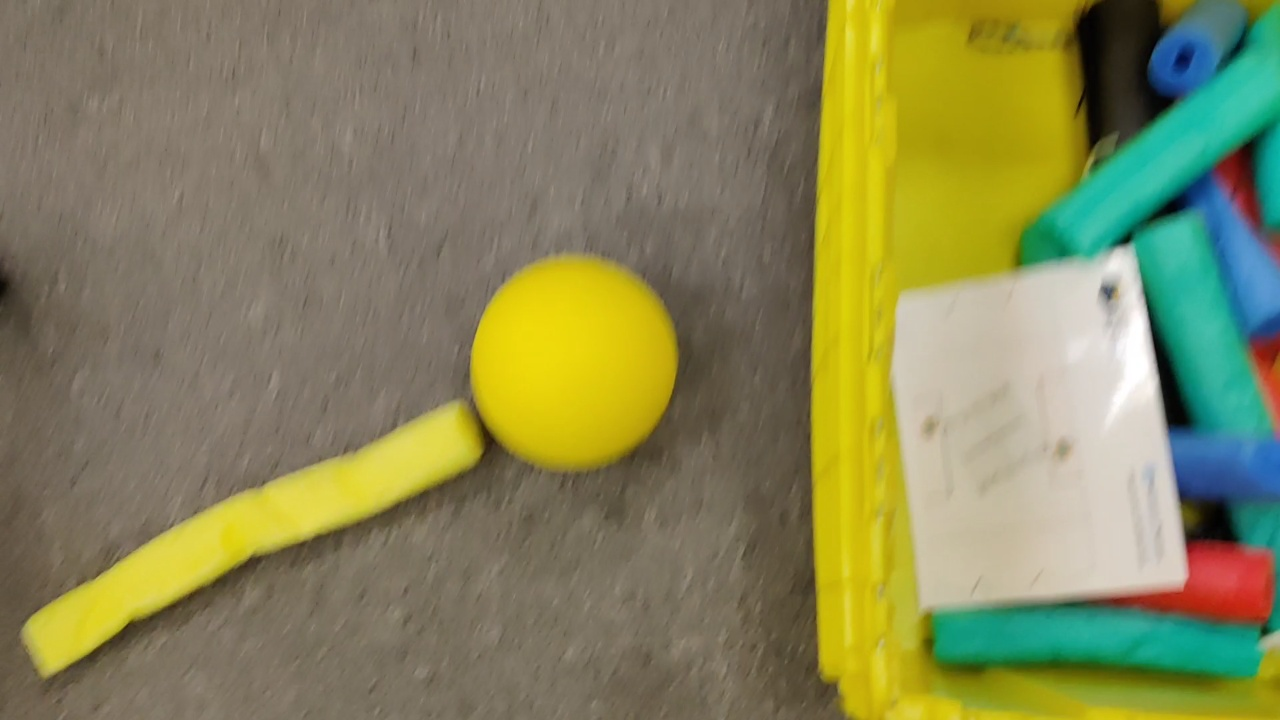Ball: (472, 258, 674, 470)
